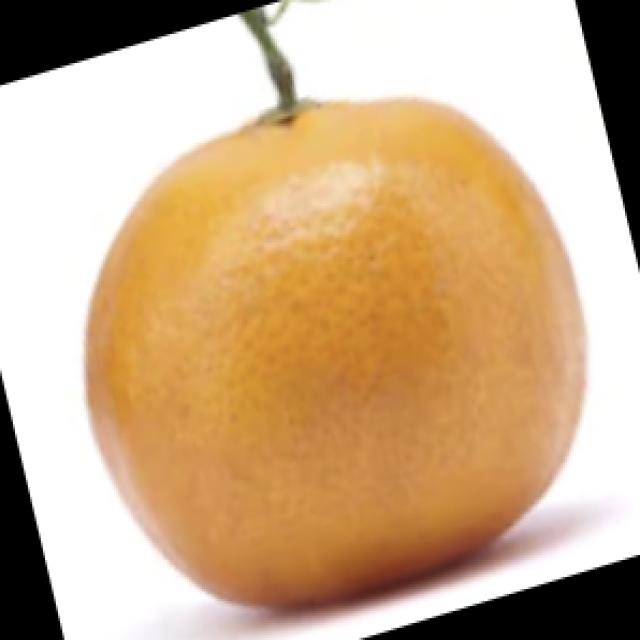matang: (78, 88, 589, 592)
